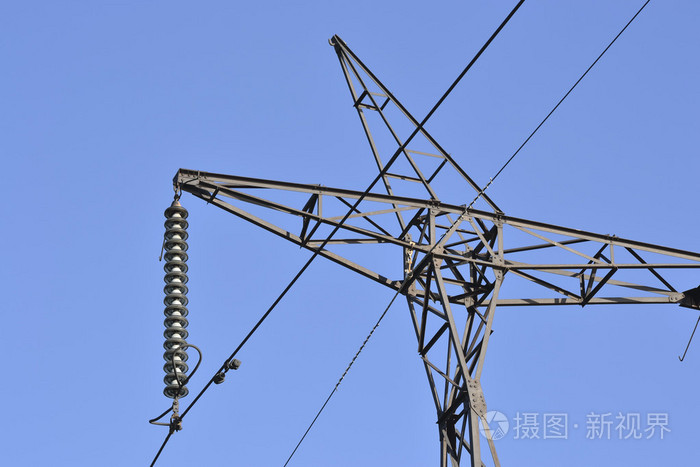insulator: (160, 206, 190, 403)
